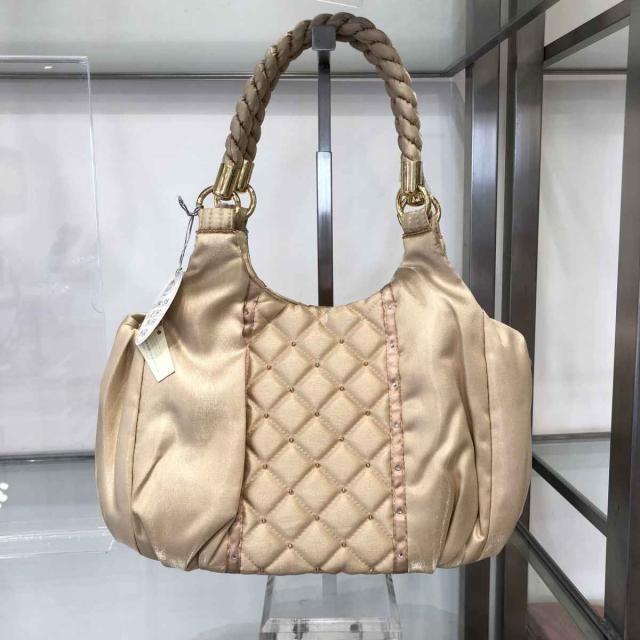Handbag: (92, 165, 537, 584)
